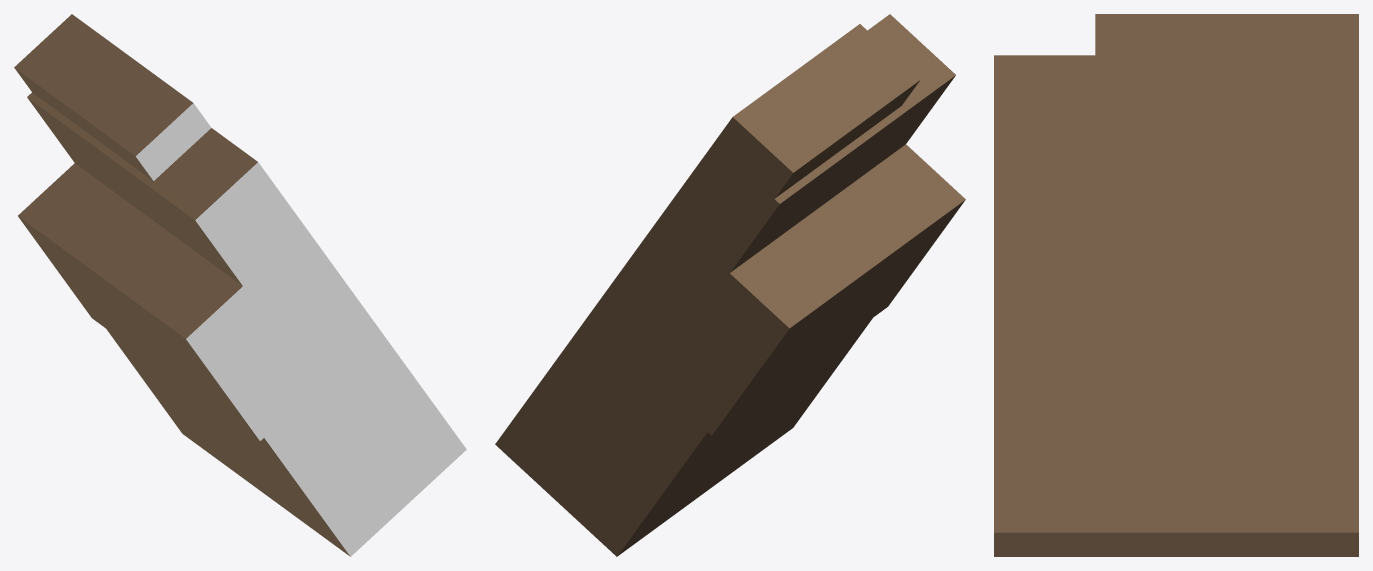
3 views of the same model, side by side, from view 1: azimuth 30°, elevation 25°; view 2: azimuth 150°, elevation 25°; view 3: azimuth 270°, elevation 25° (orthographic). The views are drawn at different scales.
Visible parts, largest first — view 1: City_PC-29962; view 2: City_PC-29962; view 3: City_PC-29962.
Part boxes in pixels (bbox=[...]): City_PC-29962: bbox=[14, 14, 466, 556]; City_PC-29962: bbox=[495, 14, 965, 556]; City_PC-29962: bbox=[994, 14, 1358, 556].
Bounding box in the file's own units: 1421 × 2132 × 1455.
